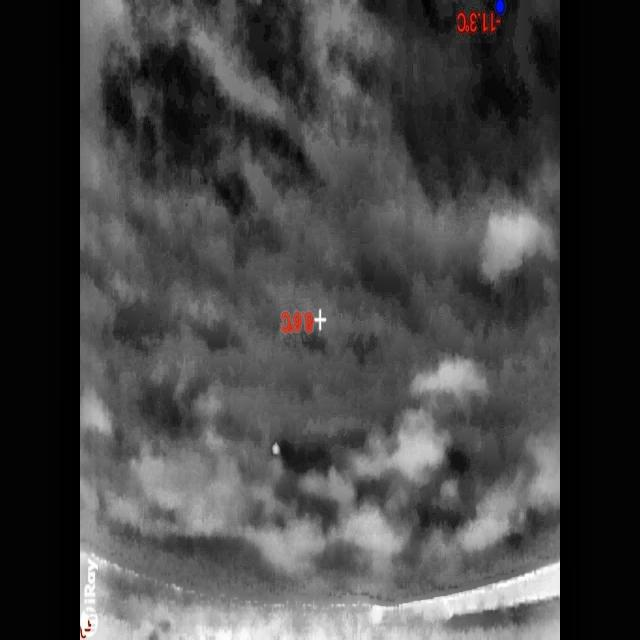drone: (271, 442, 283, 458)
